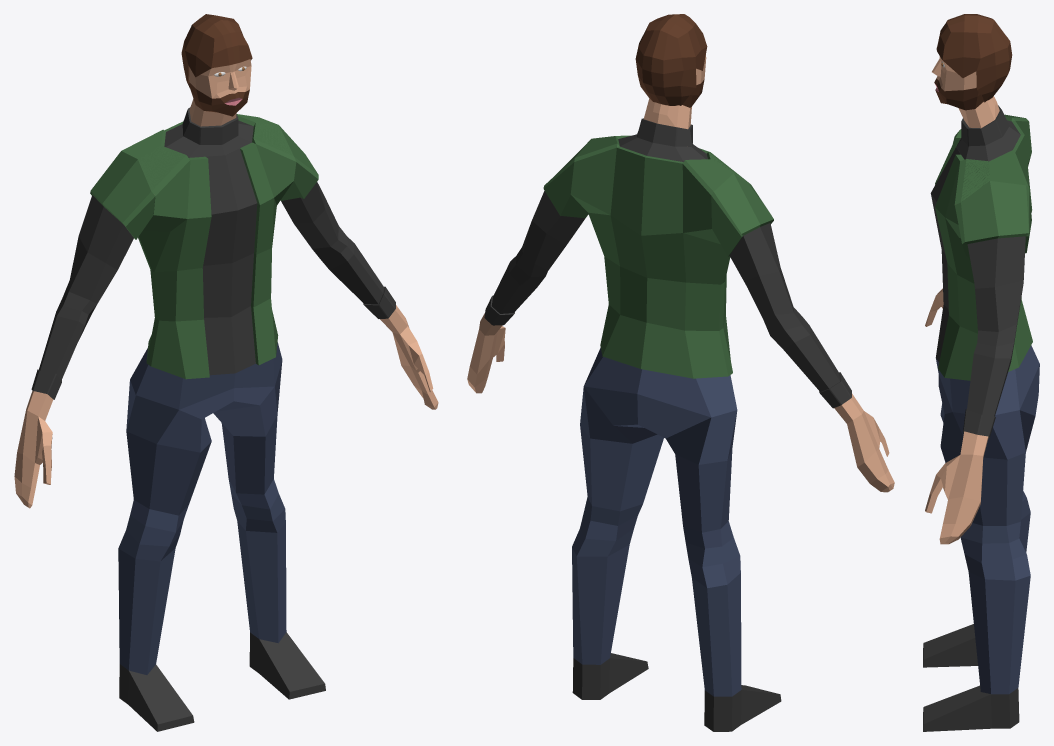
File: Koen.fbx
3 renders of one model, left to right at view 1: azimuth 30°, elevation 25°; view 2: azimuth 150°, elevation 25°; view 3: azimuth 270°, elevation 25°, orthographic.
Parts seen in each view (by area): view 1: head, head.002; view 2: head, head.002; view 3: head, head.002.
Part boxes in pixels (box(x1,y1,x2,y2)): head: box(14, 59, 438, 731); head.002: box(181, 14, 252, 87); head: box(467, 55, 894, 731); head.002: box(635, 14, 707, 105); head: box(923, 56, 1039, 731); head.002: box(936, 14, 1012, 102).
Size of the model in its own units: 236 by 367 by 57.54.
